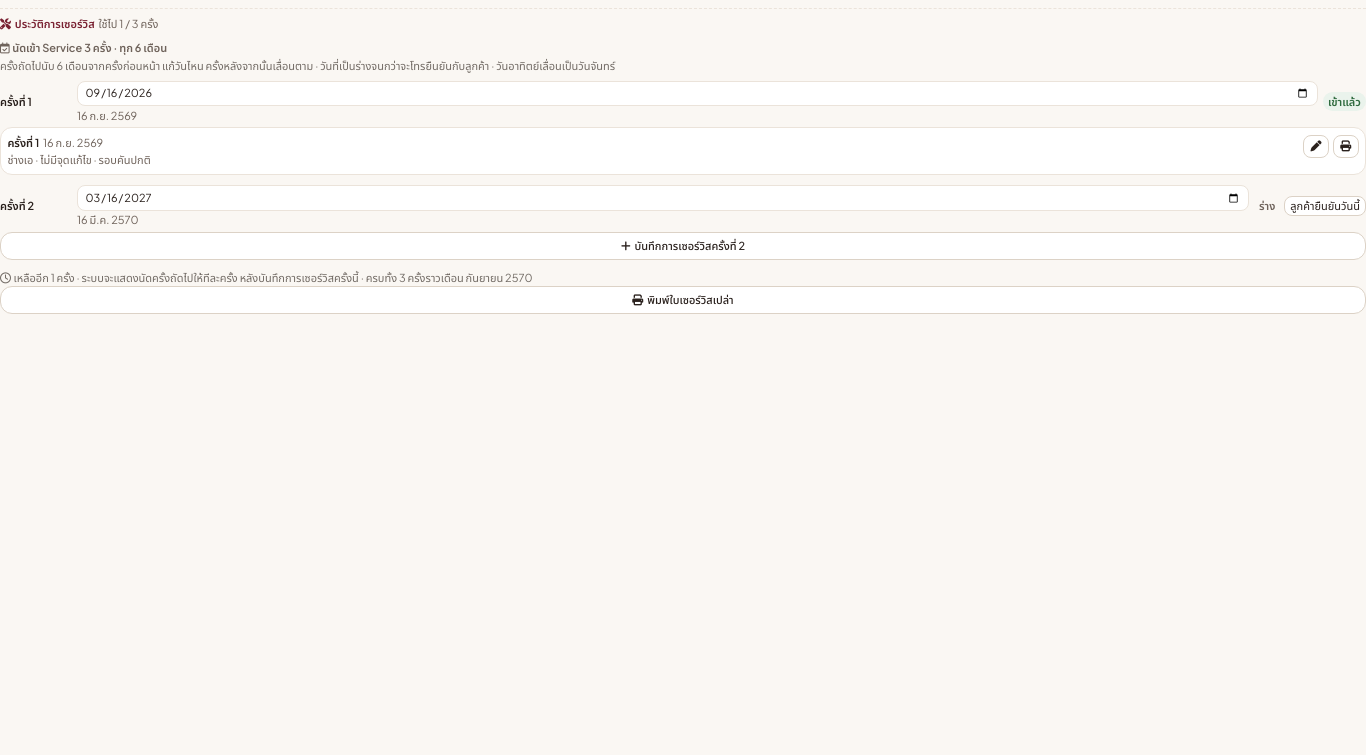
Test: ServiceVisitsSection — each visit under its date › edits a recorded visit in place
The width and height of the screenshot is (1366, 755).
Click the button named "แก้ไขการเซอร์วิสครั้งที่ 1" at (1316, 146), box [1303,135,1329,158]
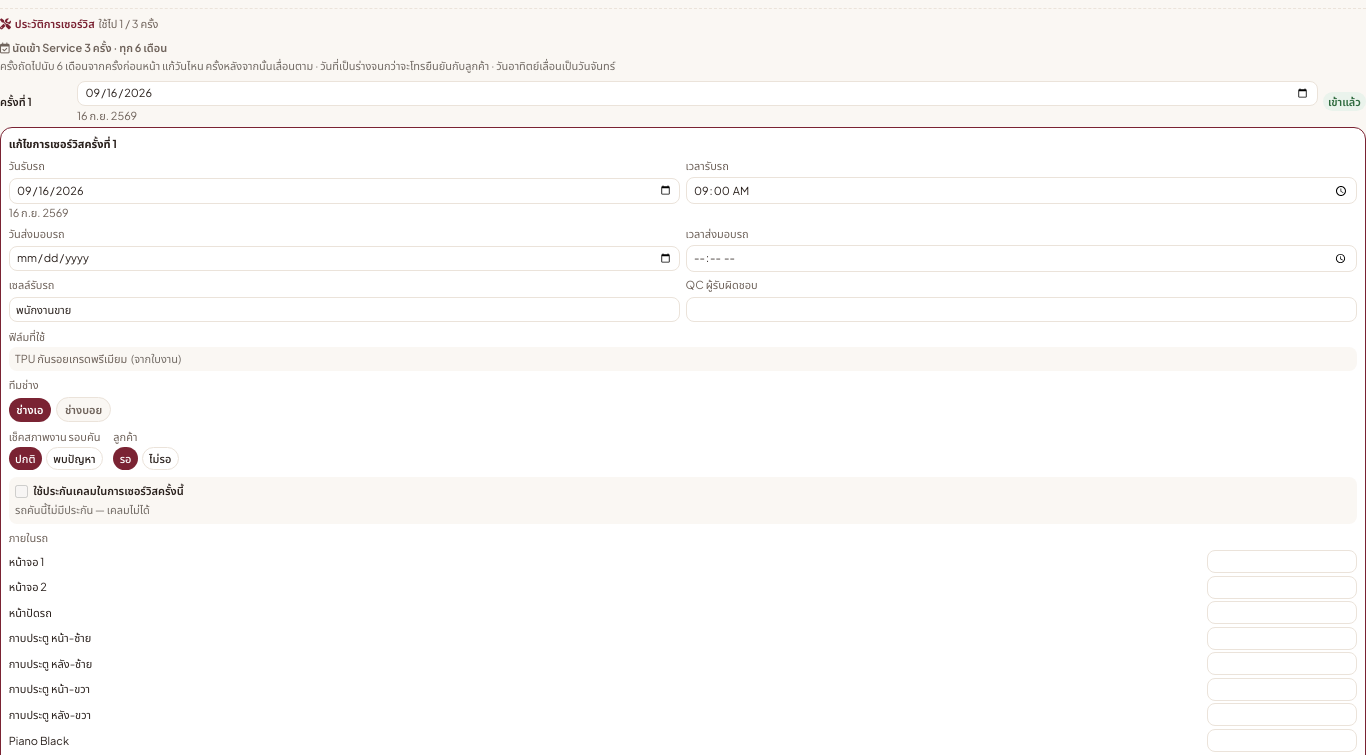
Check: the text "แก้ไขการเซอร์วิสครั้งที่ 1" is shown, box [9,137,117,150]
